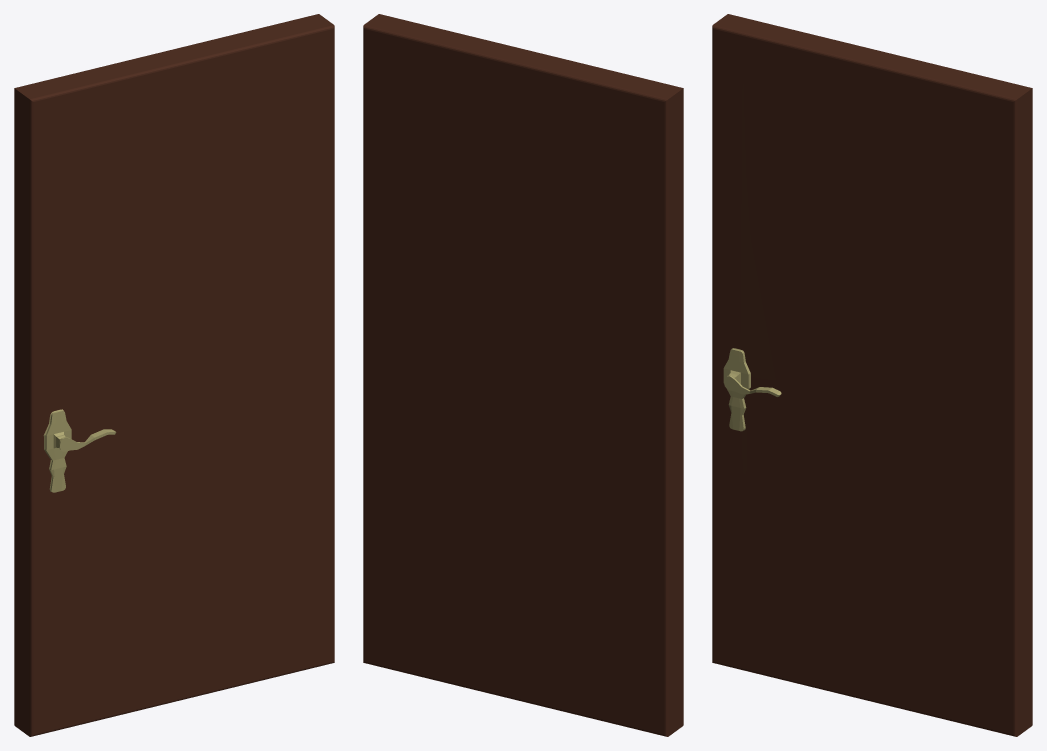
The model's file is Bedroom_door_v2.fbx.
The picture shows the model from 3 angles, left to right: view 1: azimuth 30°, elevation 25°; view 2: azimuth 150°, elevation 25°; view 3: azimuth 330°, elevation 25°; orthographic projection.
Visible parts, largest first — view 1: Bedroom_Door; view 2: Bedroom_Door; view 3: Bedroom_Door.
Boxes of the visible parts, x1,y1,x2,y2 form: Bedroom_Door: [14, 14, 334, 736]; Bedroom_Door: [363, 14, 683, 736]; Bedroom_Door: [712, 14, 1032, 736].
Size of the model in its own units: 1 by 2 by 0.1546.
